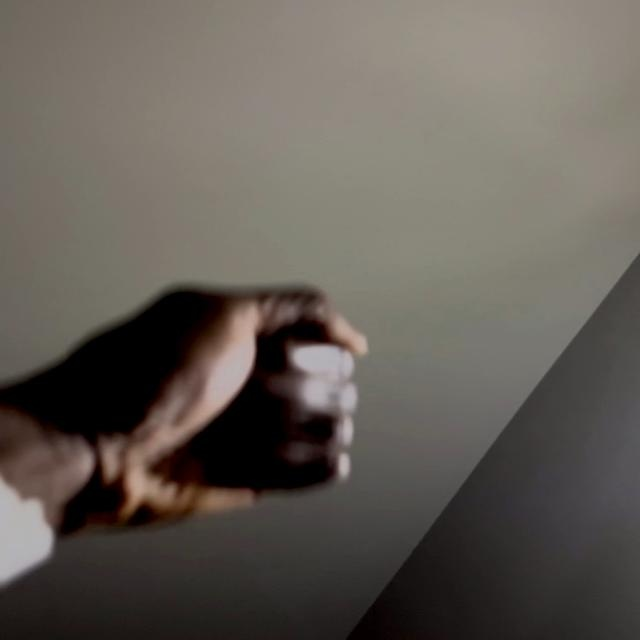Rock: (0, 275, 369, 535)
